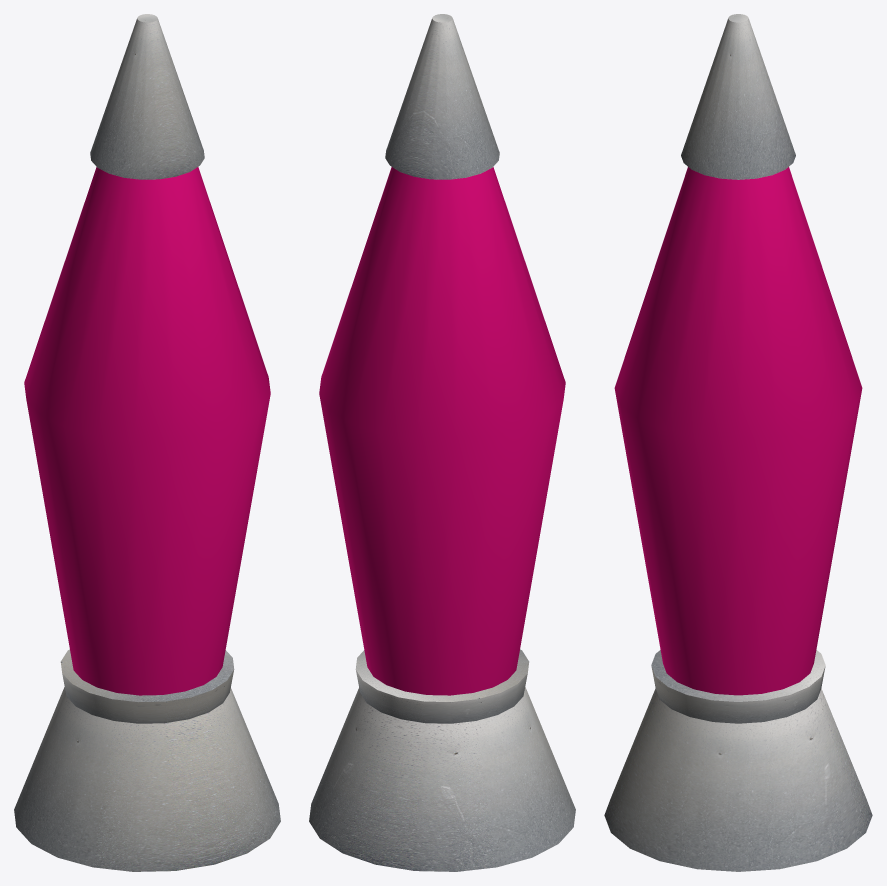
The model's file is streetlight1.fbx.
3 renders of one model, left to right at view 1: azimuth 30°, elevation 25°; view 2: azimuth 150°, elevation 25°; view 3: azimuth 270°, elevation 25°, orthographic.
Visible parts, largest first — view 1: pCylinder1; view 2: pCylinder1; view 3: pCylinder1.
Boxes of the visible parts, x1=… form: pCylinder1: x1=14, y1=14, x2=280, y2=871; pCylinder1: x1=309, y1=14, x2=575, y2=871; pCylinder1: x1=604, y1=14, x2=872, y2=871.
Bounding box in the file's own units: 93.72 × 307 × 93.72.
